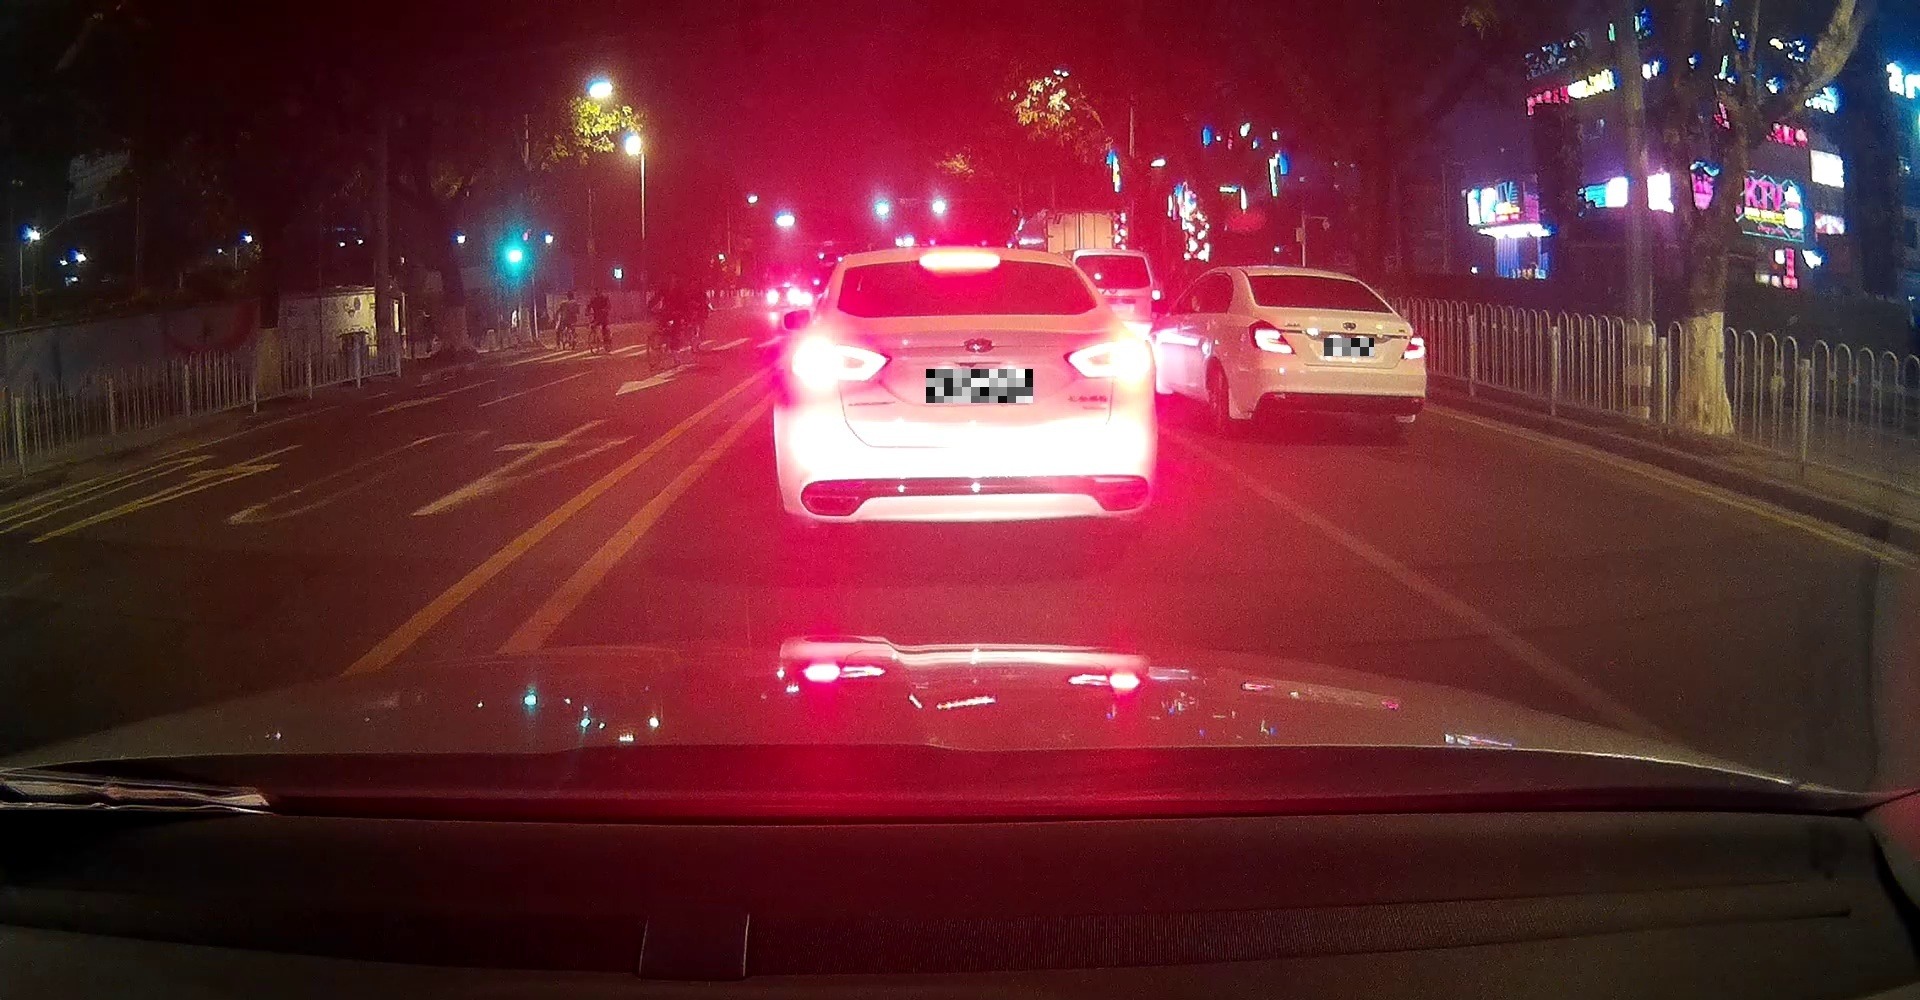L_light: (791, 334, 891, 382), (1248, 319, 1297, 355)
R_light: (1062, 338, 1153, 379), (1399, 329, 1426, 360)
T_light: (919, 253, 1001, 272), (1317, 303, 1346, 310)
night-brake: (772, 245, 1157, 546)
night-no: (1239, 265, 1426, 438)
plate_1: (926, 369, 1032, 404)
plate_2: (1324, 338, 1374, 357)
